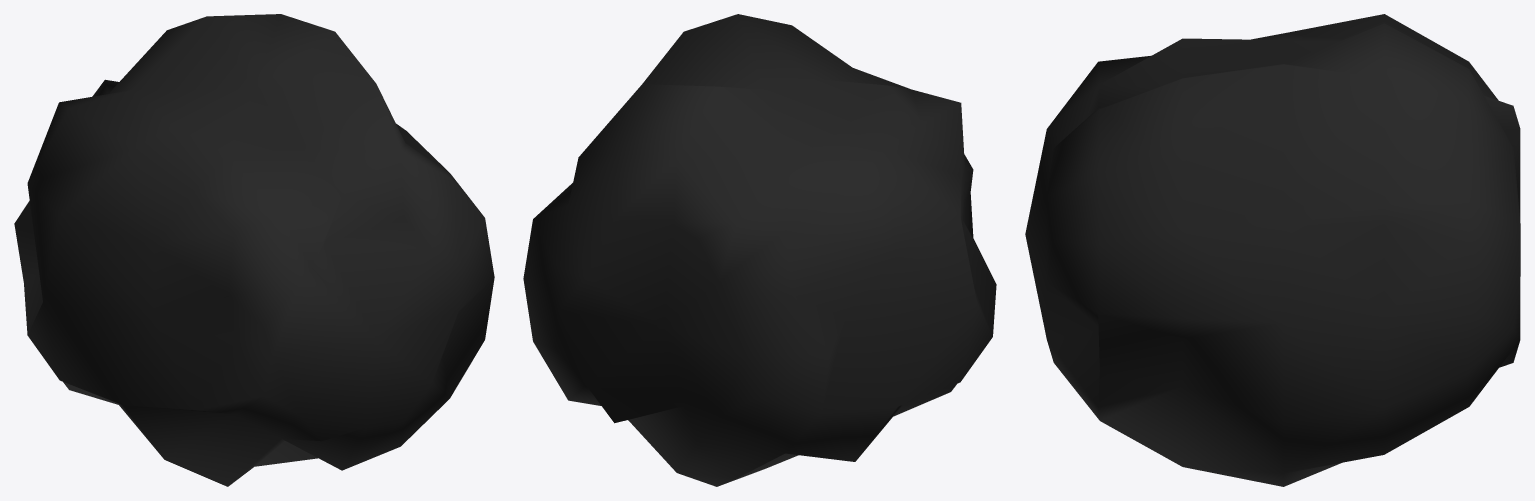
The model's file is _Plasma_01.fbx.
3 views of the same model, side by side, from view 1: azimuth 30°, elevation 25°; view 2: azimuth 150°, elevation 25°; view 3: azimuth 270°, elevation 25° (orthographic). The views are drawn at different scales.
Parts seen in each view (by area): view 1: Plasma_01; view 2: Plasma_01; view 3: Plasma_01.
Part boxes in pixels (bbox=[...]): Plasma_01: bbox=[14, 14, 494, 486]; Plasma_01: bbox=[523, 14, 996, 486]; Plasma_01: bbox=[1025, 14, 1520, 486].
Bounding box in the file's own units: 50.54 × 49.41 × 50.42.
1 material, 1 textured.
